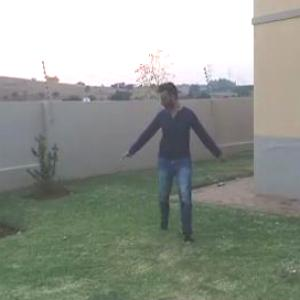land: (124, 82, 227, 242)
